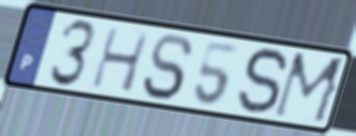3: (48, 17, 98, 89)
5: (190, 38, 241, 109)
H: (88, 24, 153, 95)
M: (269, 49, 350, 127)
S: (234, 46, 291, 118), (139, 32, 197, 102)
